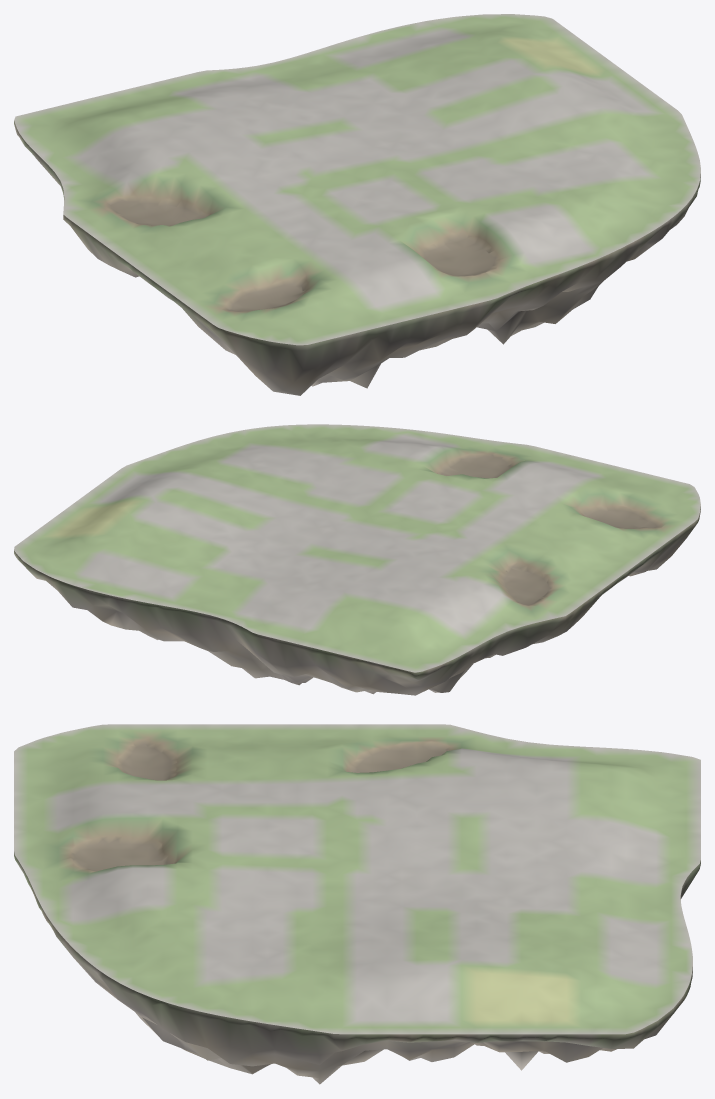
Rendered from SKY-099.rock.glb.
3 renders of one model, top to bottom at view 1: azimuth 30°, elevation 25°; view 2: azimuth 150°, elevation 25°; view 3: azimuth 270°, elevation 25°, orthographic. The views are drawn at different scales.
Parts seen in each view (by area): view 1: deck-col, rock; view 2: deck-col, rock; view 3: deck-col, rock.
Boxes of the visible parts, box(x1,y1,x2,y2) form: deck-col: box(14, 14, 700, 345); rock: box(14, 121, 700, 395); deck-col: box(14, 424, 700, 672); rock: box(14, 506, 700, 695); deck-col: box(14, 724, 700, 1034); rock: box(14, 852, 700, 1084).
Size of the model in its own units: 196 by 53.79 by 184.
